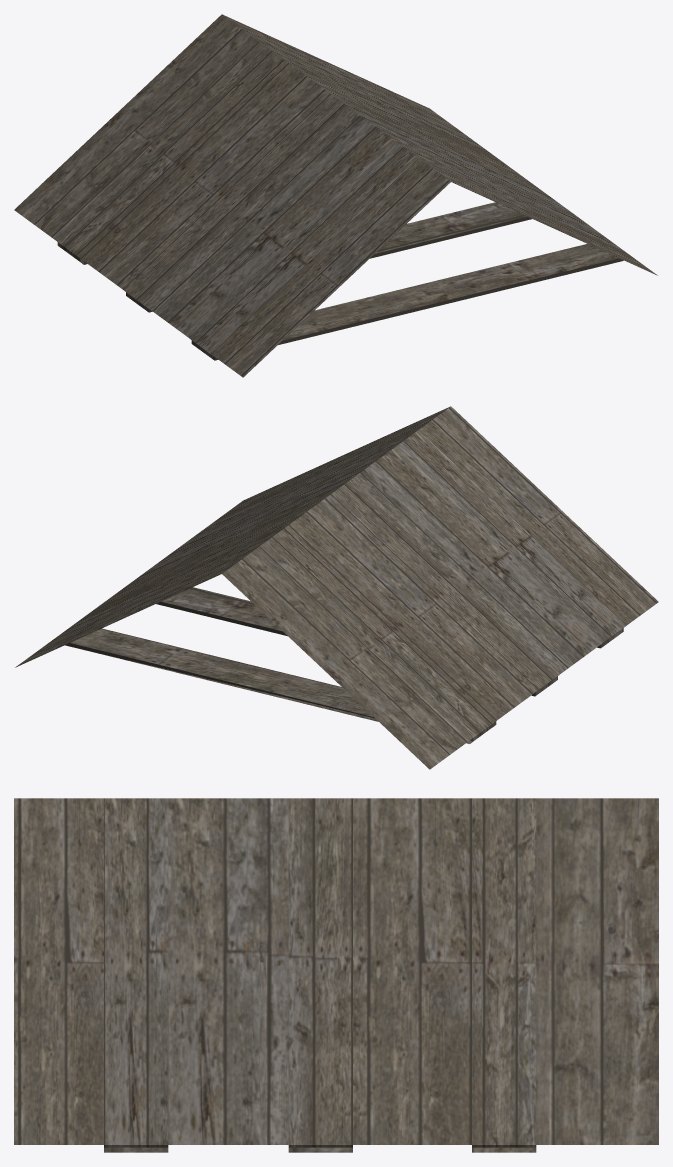
Rendered from Roof1.fbx.
3 views of the same model, one above another, from view 1: azimuth 30°, elevation 25°; view 2: azimuth 150°, elevation 25°; view 3: azimuth 270°, elevation 25° (orthographic). The views are drawn at different scales.
Visible parts, largest first — view 1: hall ceiling; view 2: hall ceiling; view 3: hall ceiling.
Part boxes in pixels (<box>): hall ceiling: <box>14,14,657,377</box>; hall ceiling: <box>15,406,658,769</box>; hall ceiling: <box>14,798,658,1152</box>.
Bounding box in the file's own units: 600 × 210 × 573.
